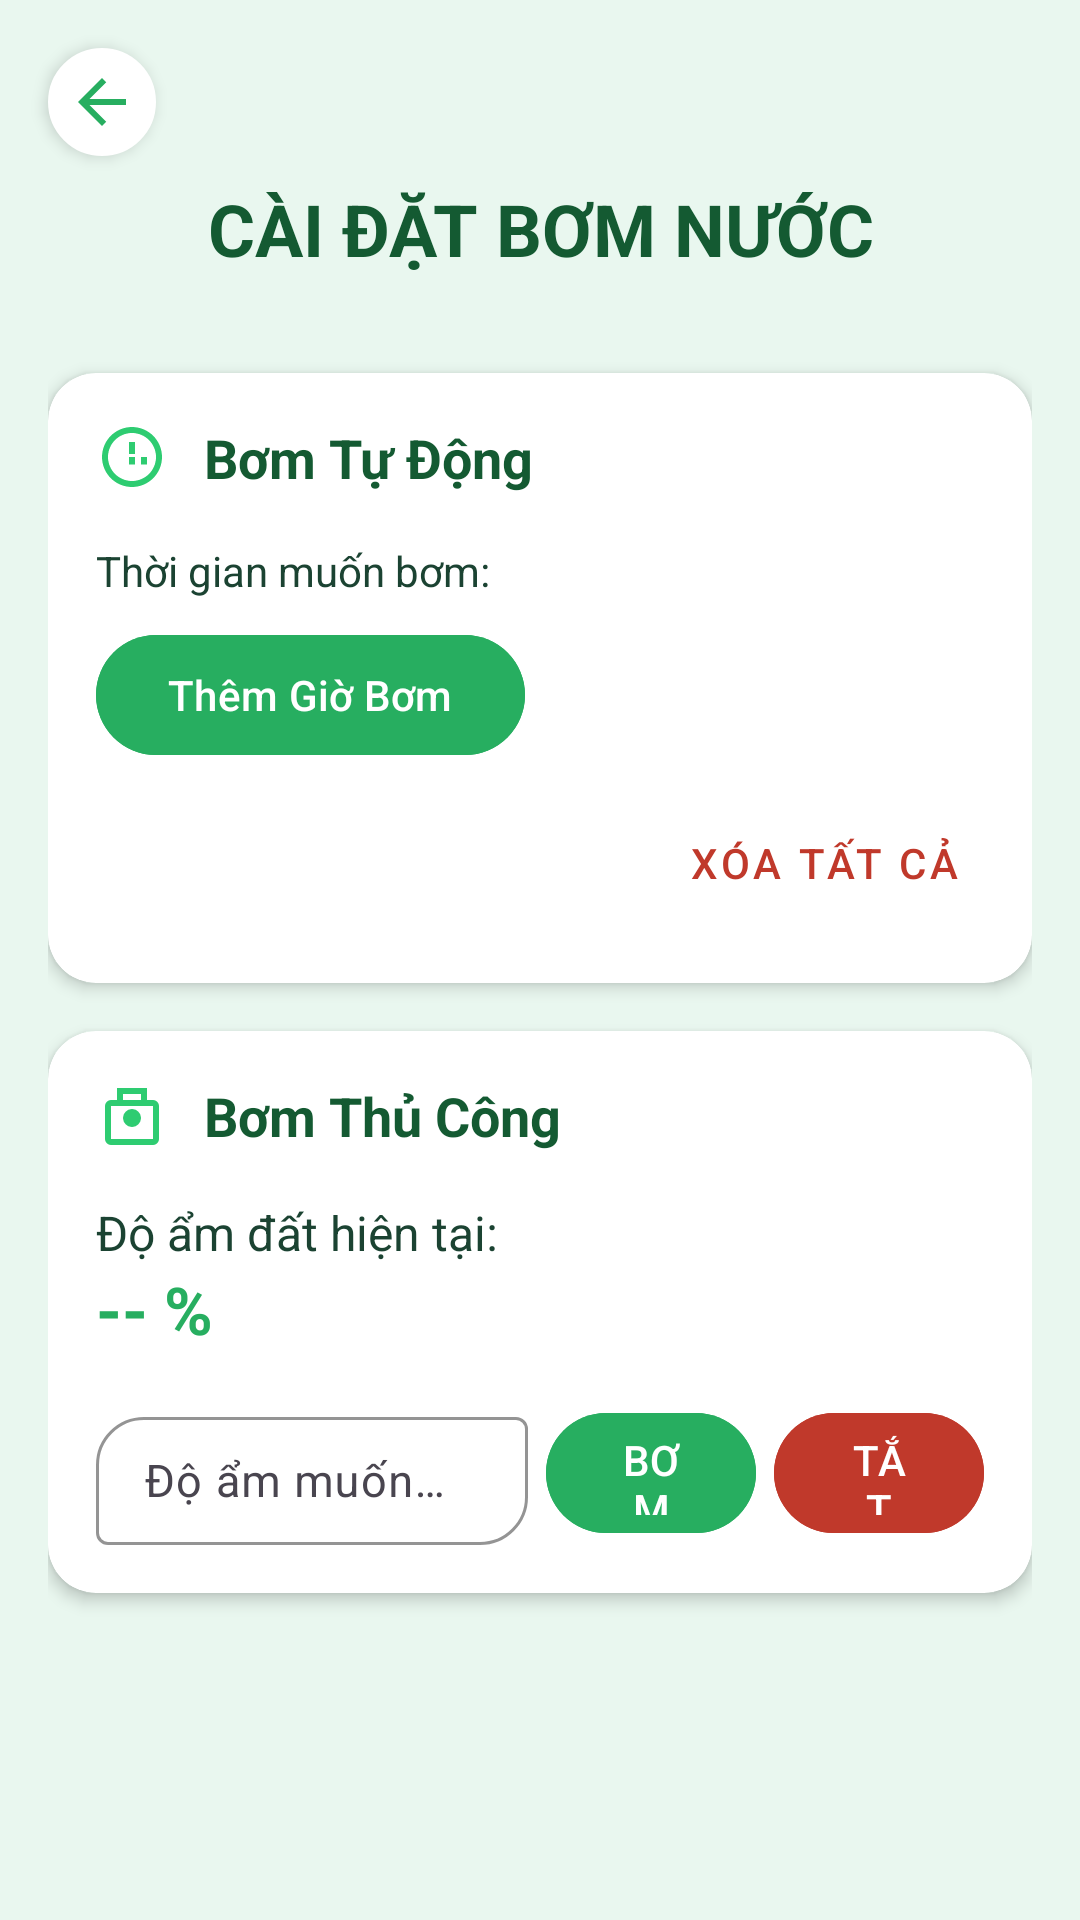

Screen size 1080 × 1920. Icon name, then its box in pixels as (x1=x1, y1=y1, x2=x2, y2=y2):
clock: (x1=102, y1=427, x2=162, y2=487)
Quay lại: (x1=48, y1=48, x2=156, y2=156)
